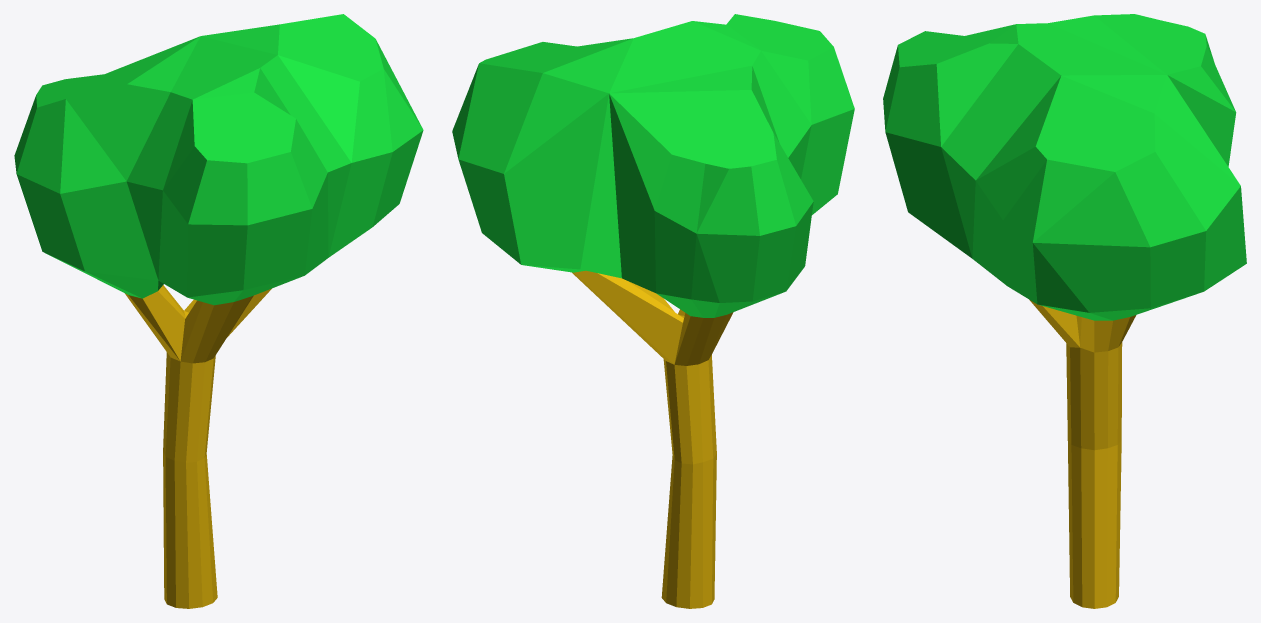
Rendered from Tree.fbx.
3 renders of one model, left to right at view 1: azimuth 30°, elevation 25°; view 2: azimuth 150°, elevation 25°; view 3: azimuth 270°, elevation 25°, orthographic. The views are drawn at different scales.
Parts seen in each view (by area): view 1: Tree; view 2: Tree; view 3: Tree.
Part boxes in pixels (bbox=[...]): Tree: bbox=[14, 14, 423, 608]; Tree: bbox=[452, 14, 854, 608]; Tree: bbox=[883, 14, 1246, 608].
Size of the model in its own units: 370 by 549 by 318.
